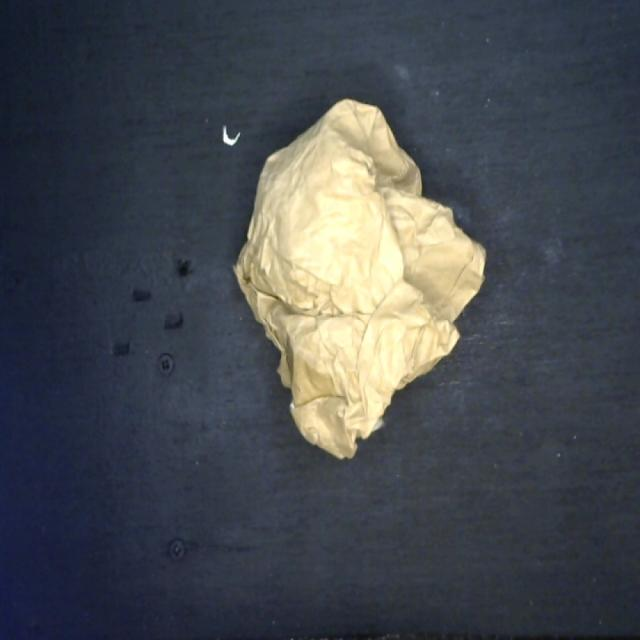biodegradable: (230, 91, 490, 468)
